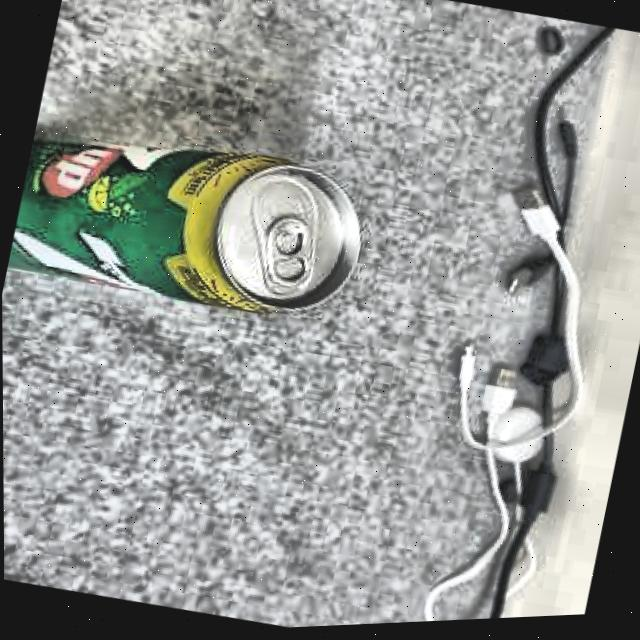metal: (5, 134, 361, 319)
